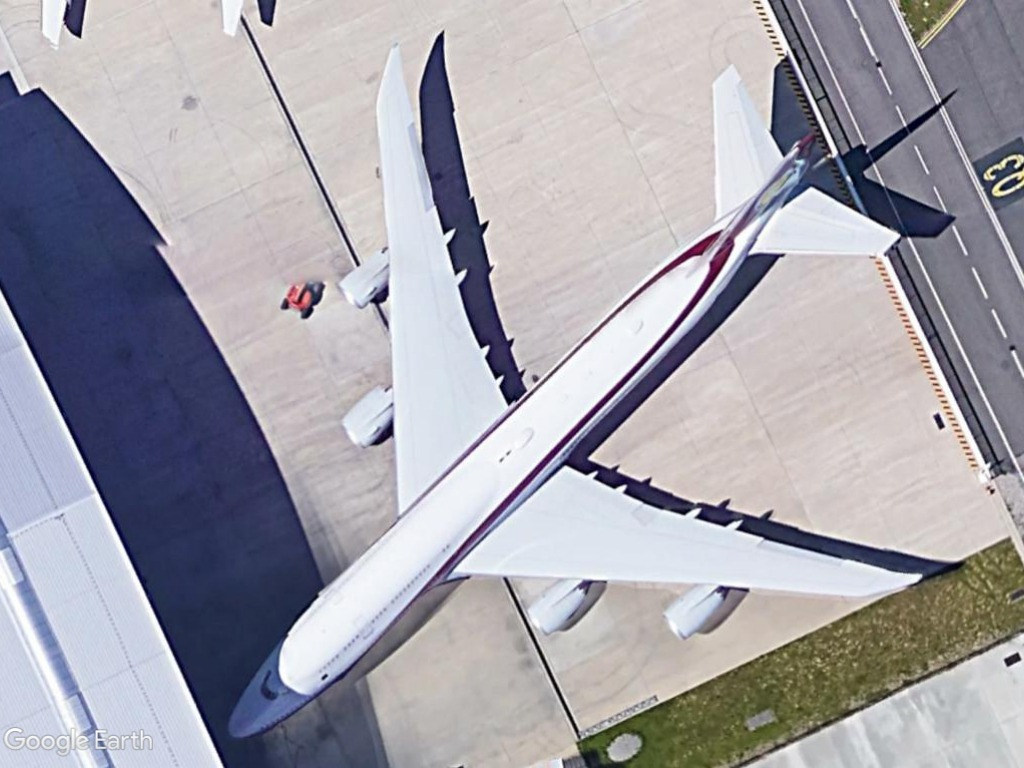airliner: (224, 43, 928, 744)
